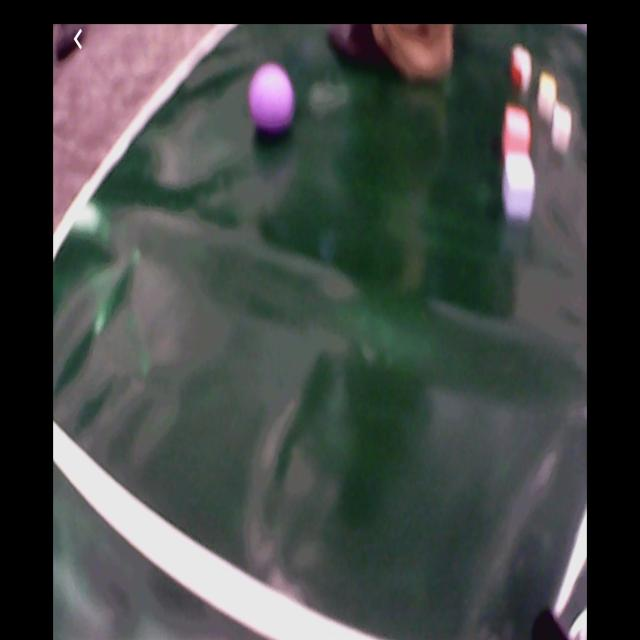ball: (248, 64, 294, 132)
